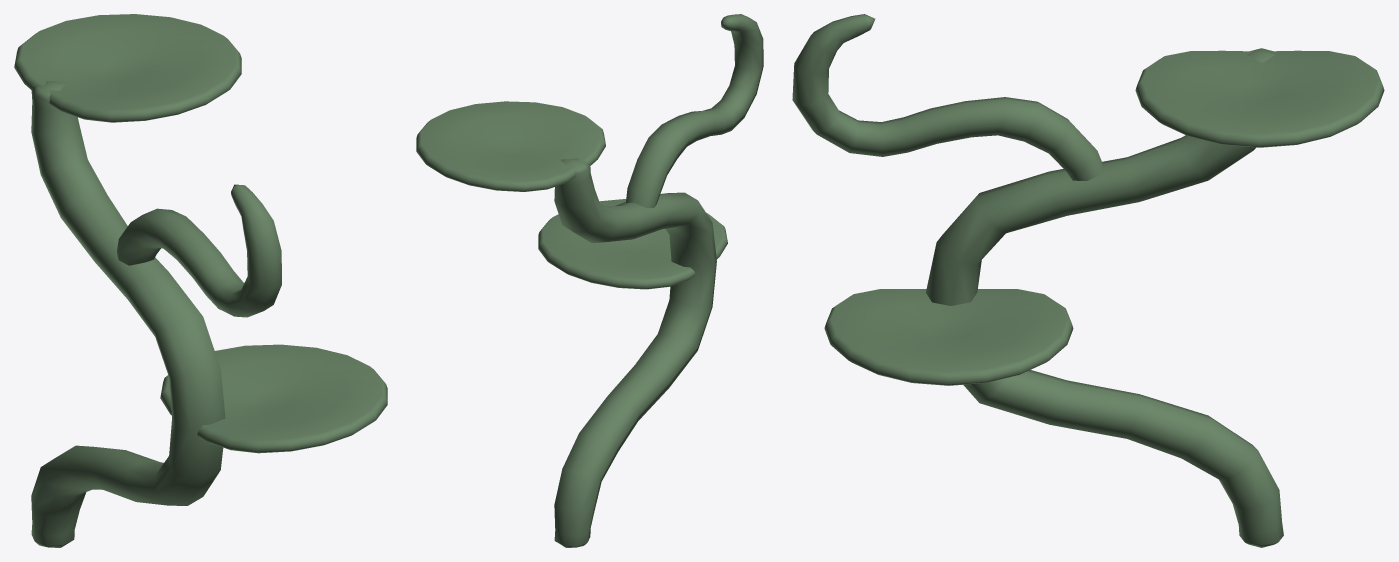
File: PlantGrowingStatic3.fbx
The picture shows the model from 3 angles, left to right: view 1: azimuth 30°, elevation 25°; view 2: azimuth 150°, elevation 25°; view 3: azimuth 270°, elevation 25°; orthographic projection. The views are drawn at different scales.
Visible parts, largest first — view 1: PlantGrowing3; view 2: PlantGrowing3; view 3: PlantGrowing3.
Part boxes in pixels (left/top/right/bottom): PlantGrowing3: left=14, top=14, right=387, bottom=547; PlantGrowing3: left=416, top=14, right=763, bottom=547; PlantGrowing3: left=792, top=14, right=1384, bottom=547.
Bounding box in the file's own units: 2.26 × 5.37 × 5.46.
